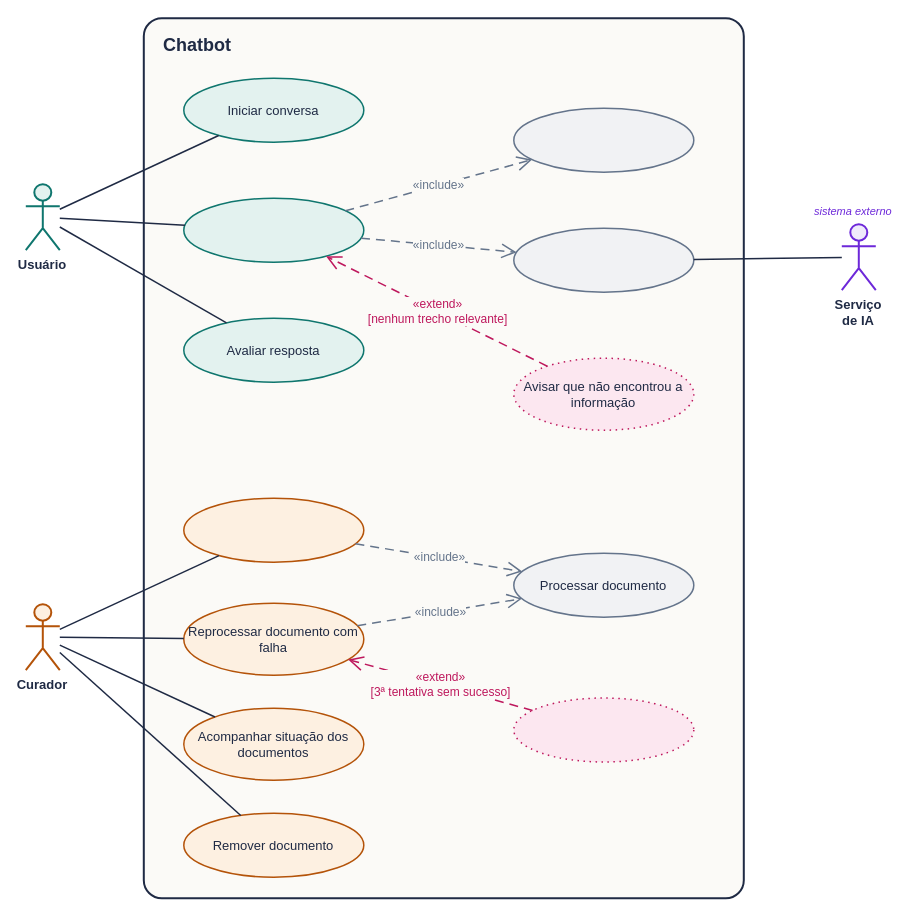
The diagram is 920 pixels wide and 916 high, and some of its shapes have lost their labels. Here are the shapes that lost their labels. From the top down, the box of each, then its label:
(513, 107, 694, 172): Buscar trechos relevantes
(183, 197, 364, 262): Fazer pergunta
(513, 227, 694, 292): Gerar resposta com fontes
(183, 497, 364, 562): Enviar documento
(513, 697, 694, 762): Bloquear documento
